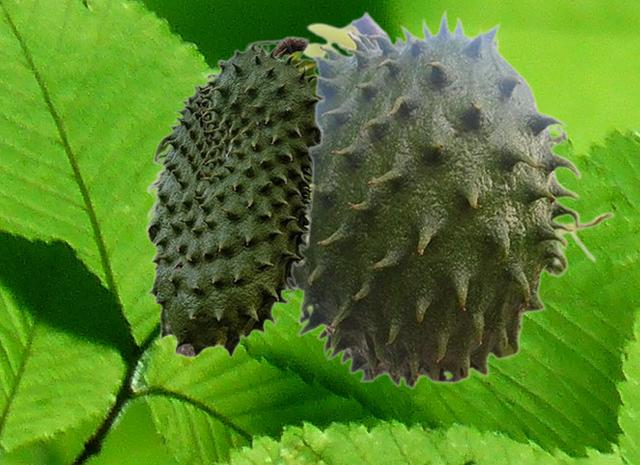guyabano: (283, 7, 615, 390), (144, 35, 324, 358)
